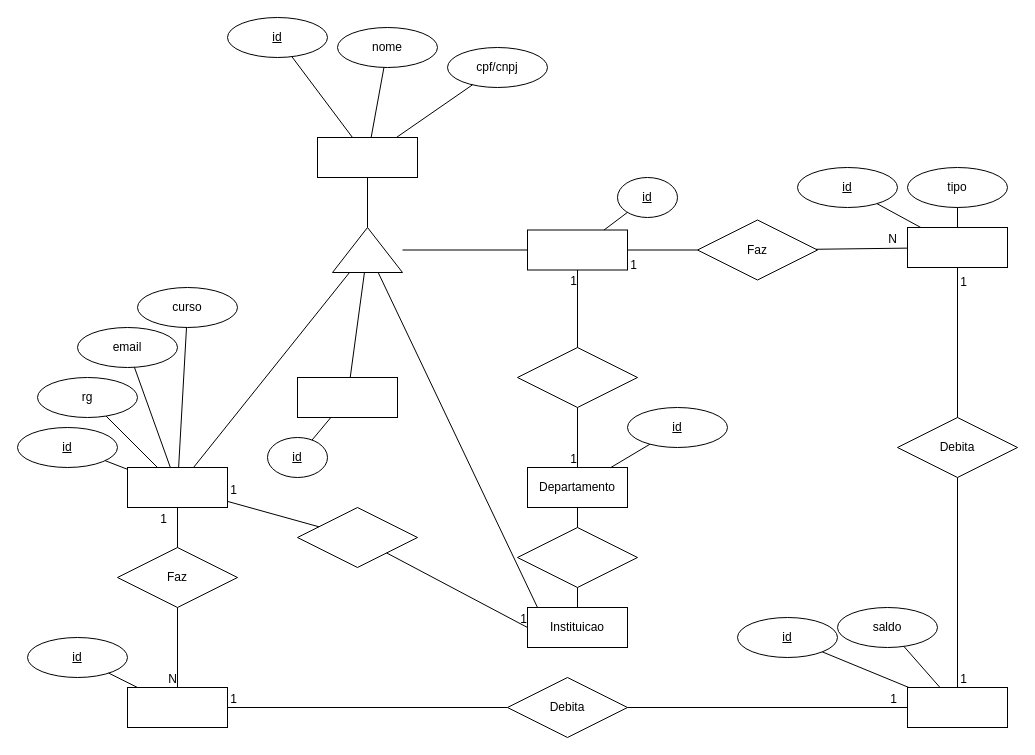
Image size: 1035x755. Some labels were removed from this diagram. Each missing label, with the box of its shape:
Aluno: (126, 466, 228, 508)
Conta: (906, 686, 1008, 728)
Empresa: (296, 376, 398, 418)
Estuda: (296, 506, 418, 568)
Faz parte: (516, 526, 638, 588)
Pedido: (126, 686, 228, 728)
Pessoa: (316, 136, 418, 178)
Professor: (526, 229, 628, 270)
Trabalha: (516, 346, 638, 408)
Transação: (906, 226, 1008, 268)
